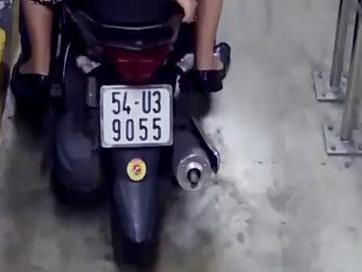num_plate: (99, 85, 175, 147)
